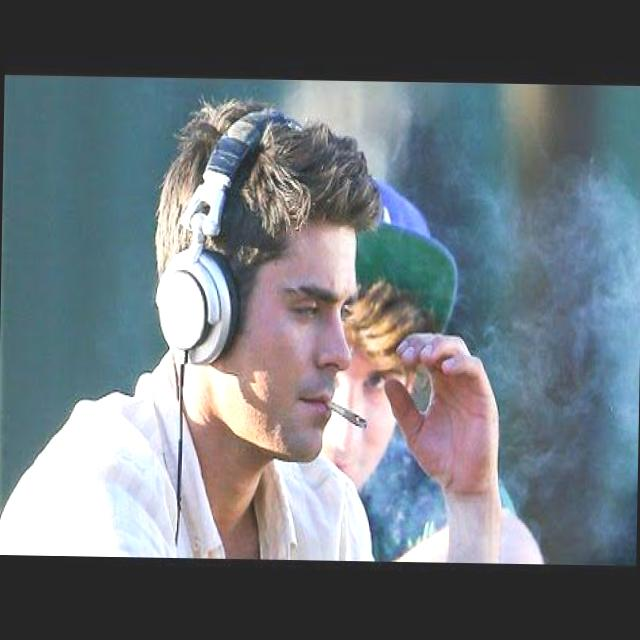cigarette: (320, 386, 386, 448)
